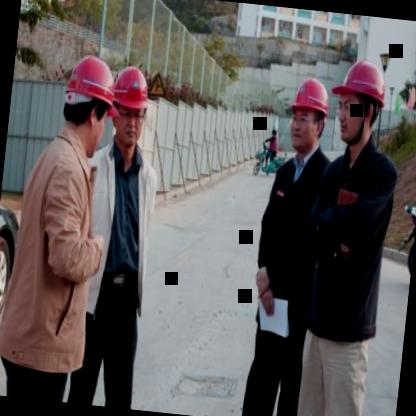helmet: (330, 54, 391, 150), (60, 48, 118, 148), (284, 70, 334, 158), (107, 58, 152, 146)
